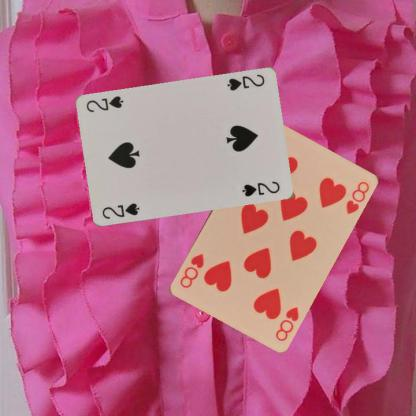2s: (100, 200, 140, 221), (224, 72, 266, 92)
8h: (273, 303, 300, 342)
